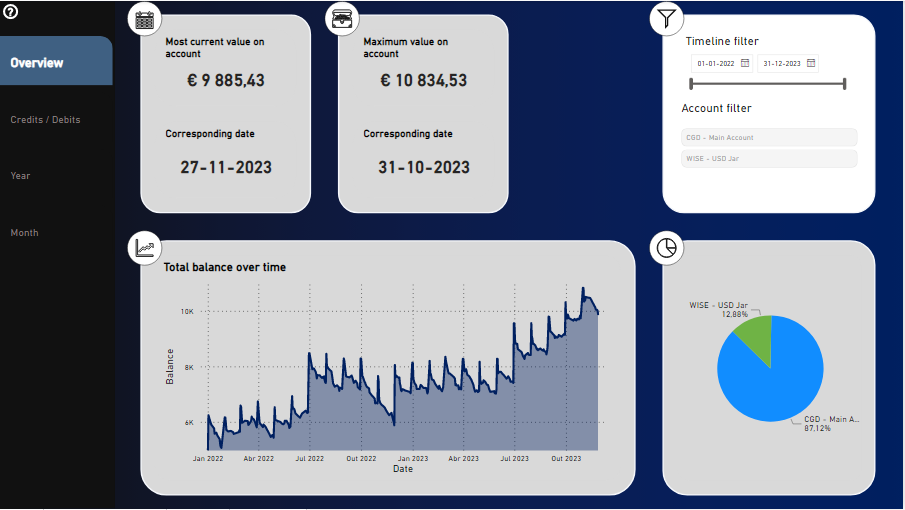

This screenshot's page, from the dashboard's own definition file:
{"tool":"powerbi","page":{"name":"Overview","canvas":[1280,720],"ordinal":0},"visuals":[{"type":"stackedAreaChart","title":"Total balance over time","fields":{"Category":["Calendar.Date"],"Y":["Sum(Balances.Balance)"]},"box":[220,360,660,320],"z":0},{"type":"card","title":"Corresponding date","fields":{"Values":["Balances.Max Balance Date"]},"box":[500,170,200,110],"z":1000},{"type":"card","title":"Maximum value on account","fields":{"Values":["Balances.Max Daily Balance"]},"box":[500,40,200,110],"z":2000},{"type":"card","title":"Corresponding date","fields":{"Values":["Balances.Latest Date"]},"box":[220,170,200,110],"z":3000},{"type":"card","title":"Most current value on account","fields":{"Values":["Balances.Current Balance"]},"box":[220,40,200,110],"z":4000},{"type":"advancedSlicerVisual","title":"Account filter","fields":{"Values":["Accounts.Account_full_name"]},"box":[960,140,260,150],"z":5000},{"type":"slicer","title":"Timeline filter","fields":{"Values":["Calendar.Date"]},"box":[960,40,260,90],"z":6000},{"type":"pageNavigator","box":[0,30,160,350],"z":7000},{"type":"actionButton","title":"Information button","box":[0,0,30,30],"z":8000},{"type":"donutChart","fields":{"Y":["Balances.Current Balance"],"Category":["Accounts.Account_full_name"]},"box":[961,359.9,259.7,320],"z":9000}]}

Visuals, with their boxes on the page's 1280x720 design canvas (x1, y1, x2, y2). These are canvas units, not pixel positions in the 905x510 screenshot, which may show the page scaled, cropped or inside an application window:
"Total balance over time" stackedAreaChart: 220,360,880,680
"Corresponding date" card: 500,170,700,280
"Maximum value on account" card: 500,40,700,150
"Corresponding date" card: 220,170,420,280
"Most current value on account" card: 220,40,420,150
"Account filter" advancedSlicerVisual: 960,140,1220,290
"Timeline filter" slicer: 960,40,1220,130
pageNavigator: 0,30,160,380
"Information button" actionButton: 0,0,30,30
donutChart - Balances.Current Balance x Accounts.Account_full_name: 961,360,1221,680
